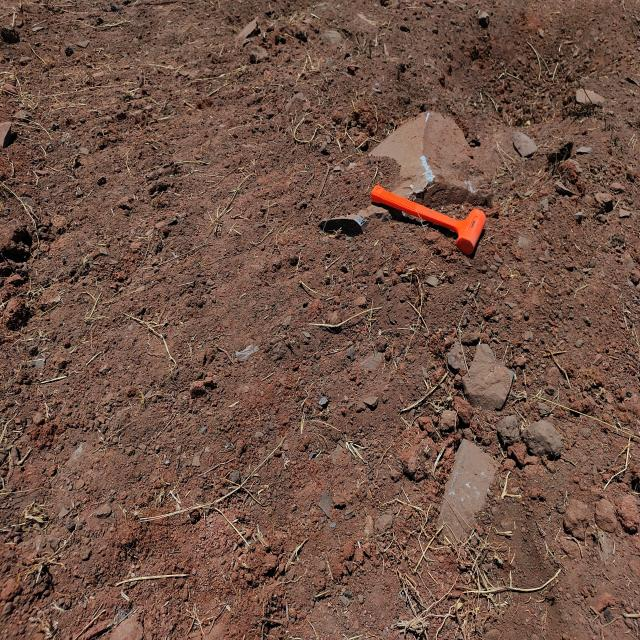Orange_hammer: (370, 183, 486, 257)
